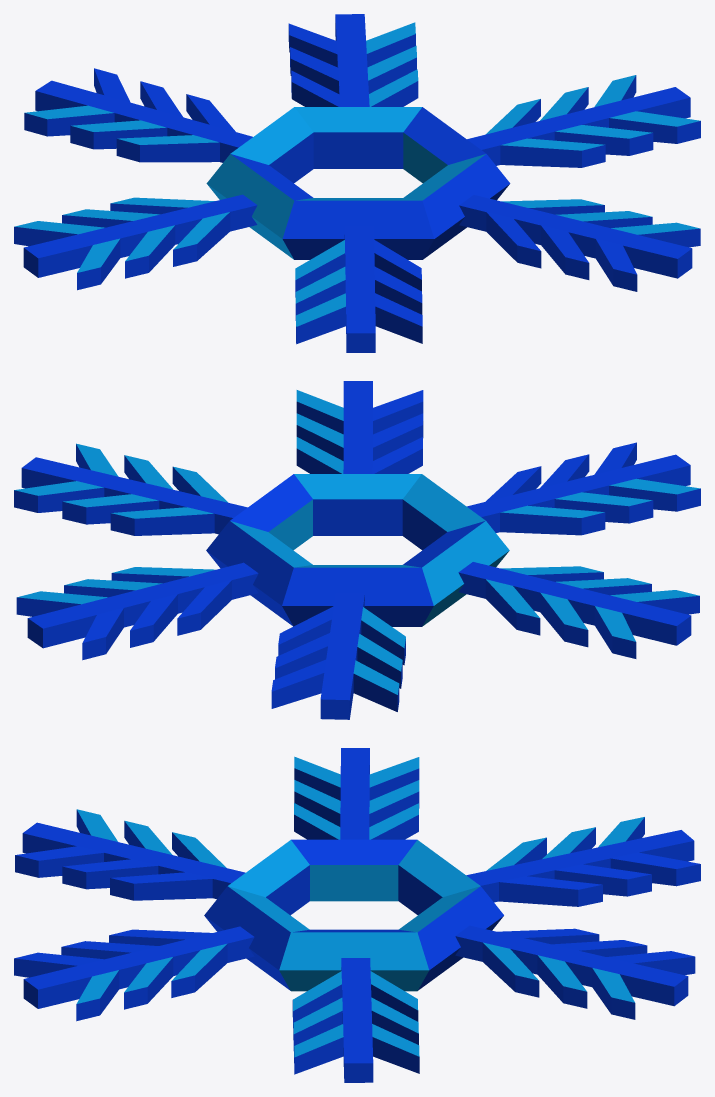
File: platek.fbx
3 renders of one model, top to bottom at view 1: azimuth 30°, elevation 25°; view 2: azimuth 150°, elevation 25°; view 3: azimuth 270°, elevation 25°, orthographic.
Parts seen in each view (by area): view 1: Freeze; view 2: Freeze; view 3: Freeze.
Part boxes in pixels (bbox=[...]): Freeze: bbox=[14, 14, 700, 352]; Freeze: bbox=[14, 381, 700, 719]; Freeze: bbox=[14, 748, 700, 1082].
Bounding box in the file's own units: 5.91 × 0.5136 × 5.44.
